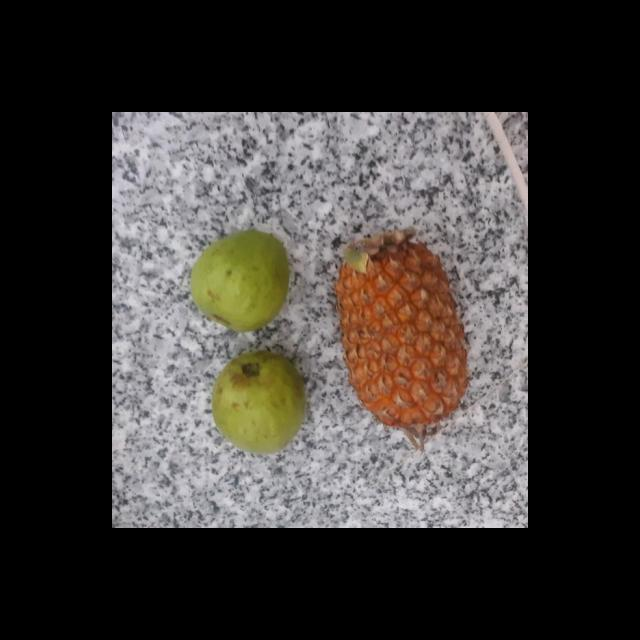guava: (186, 232, 290, 331), (208, 354, 304, 454)
pineapple: (333, 246, 470, 434)
